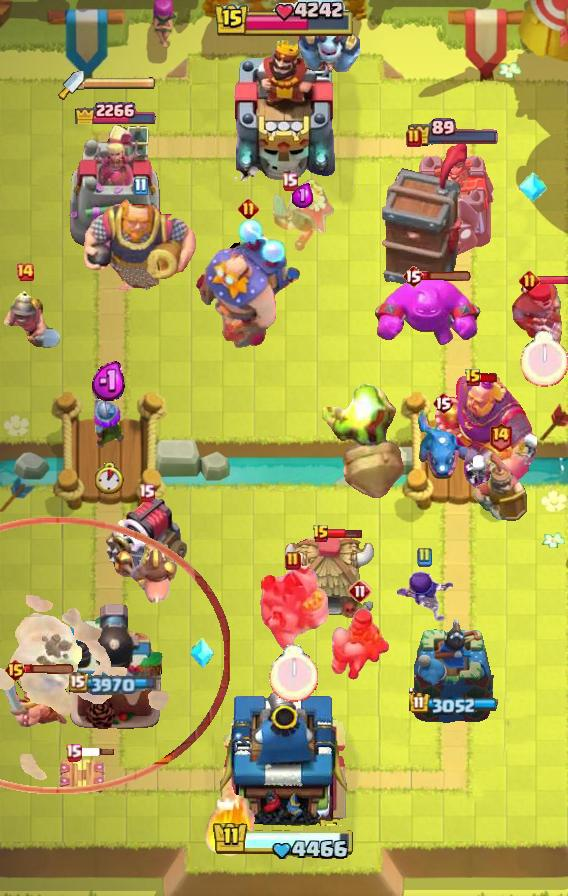bandit: (0, 285, 64, 349)
bar: (67, 122, 161, 256)
bomb-tower: (92, 384, 126, 448)
cannoneer-tower: (257, 565, 329, 659)
clock: (212, 820, 356, 862), (213, 0, 355, 40)
clone: (372, 275, 482, 349)
dart-goblin: (380, 140, 470, 296)
earthquake: (473, 453, 527, 521)
electro-spirit: (91, 361, 129, 402), (291, 183, 312, 209)
elite-barbarian: (330, 607, 390, 681)
elixir: (270, 645, 319, 702), (520, 331, 568, 387), (96, 462, 124, 494)
elixir-golem-small: (298, 14, 362, 72)
emote: (421, 271, 473, 282), (24, 665, 76, 676), (327, 528, 363, 539), (537, 274, 567, 286), (79, 747, 115, 757), (480, 372, 500, 384)
freeze: (111, 537, 180, 609)
giant-skeleton: (82, 194, 198, 294)
goblin-ball: (394, 568, 454, 624)
goblin-brawler: (58, 756, 108, 796)
goblin-giant: (0, 671, 70, 729)
golem: (103, 495, 189, 583)
graveyard: (414, 405, 472, 481)
king-tower: (214, 684, 354, 826), (228, 35, 340, 181)
king-tower-bar: (84, 77, 156, 91)
lightning: (433, 376, 537, 494)
little-prince: (194, 217, 302, 351)
mortar-evolution: (268, 178, 336, 252)
pad_2: (519, 170, 547, 204), (189, 637, 215, 669)
phoenix-small: (510, 282, 568, 346)
prince: (284, 534, 378, 624)
queen-tower: (409, 616, 497, 731), (410, 144, 496, 255)
royal-ghost: (0, 517, 230, 796)
selected: (408, 117, 501, 146), (72, 96, 156, 124), (69, 672, 159, 696), (410, 692, 499, 715)
text: (488, 420, 513, 451), (348, 579, 372, 603), (4, 658, 28, 682), (402, 264, 424, 288), (432, 391, 454, 415), (238, 197, 259, 219), (520, 269, 541, 291), (15, 262, 35, 282), (464, 368, 482, 388), (312, 524, 330, 544), (66, 743, 83, 762), (406, 128, 422, 148), (416, 547, 432, 567), (285, 551, 301, 571), (281, 173, 298, 191), (137, 483, 154, 501), (133, 176, 147, 195)
tower-bar: (64, 601, 164, 731)
valkyrie: (202, 772, 262, 862)
x-bow: (317, 359, 411, 503)
